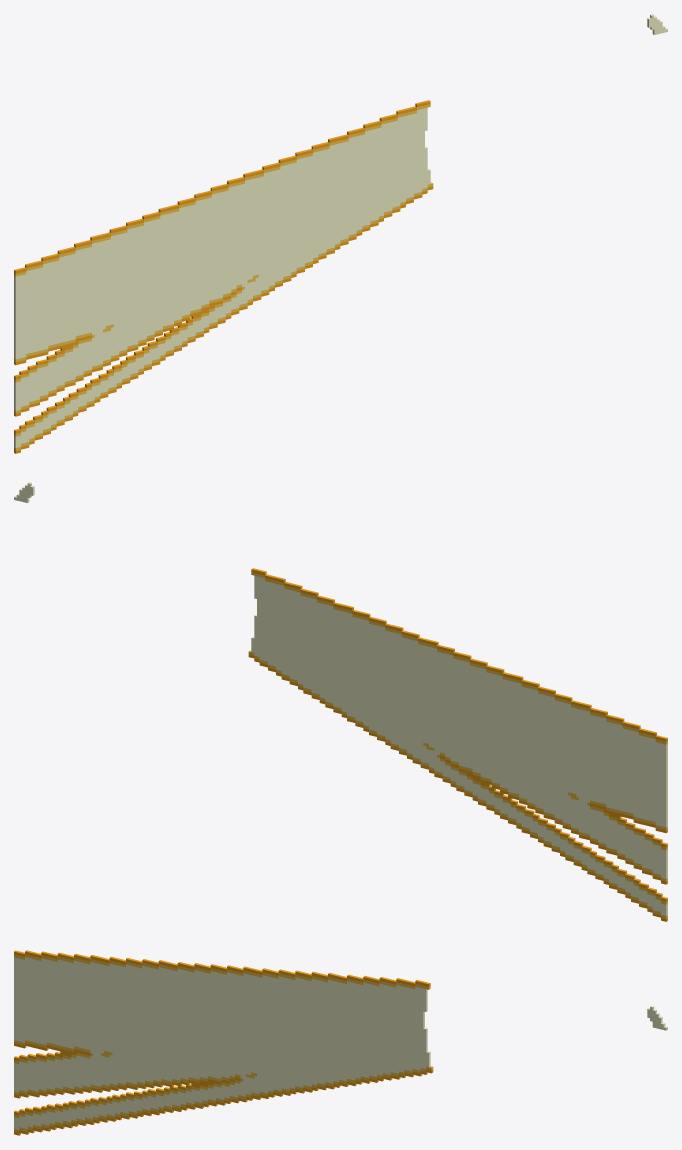
Rendered from Fight_019_2_08_fx.obj.
3 views of the same model, one above another, from view 1: azimuth 30°, elevation 25°; view 2: azimuth 150°, elevation 25°; view 3: azimuth 330°, elevation 25° (orthographic).
Bounding box in the file's own units: 23.9 × 9.9 × 0.1.
Materials: 1 (1 with a texture image).
